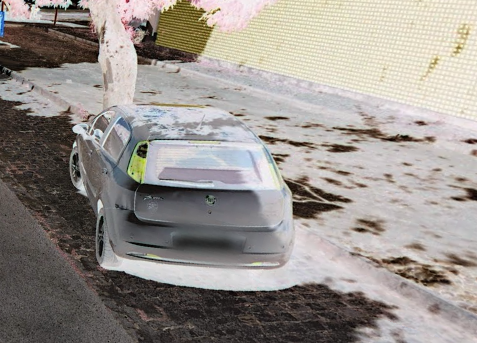car: (62, 95, 300, 278)
